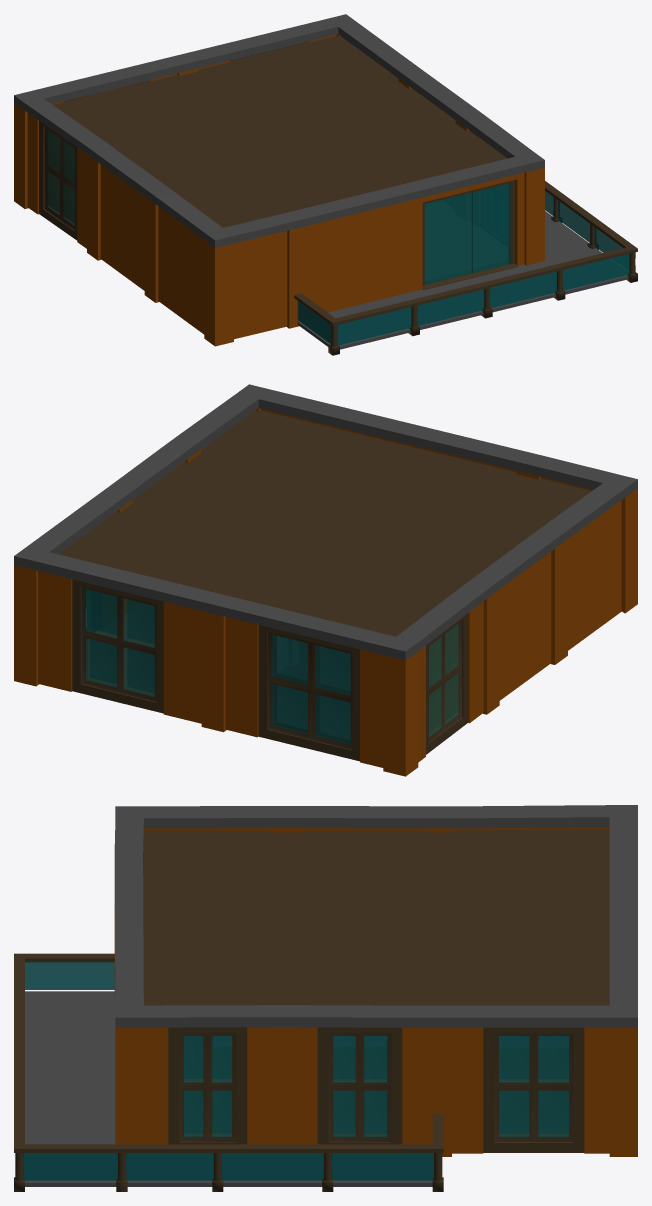
File: crime scene 1 FBX 3.fbx
3 renders of one model, top to bottom at view 1: azimuth 30°, elevation 25°; view 2: azimuth 150°, elevation 25°; view 3: azimuth 270°, elevation 25°, orthographic. The views are drawn at different scales.
Parts seen in each view (by area): view 1: Building, Ceiling, Door; view 2: Building, Ceiling; view 3: Building, Ceiling.
Part boxes in pixels (bbox=[...]): Building: bbox=[14, 14, 637, 355]; Ceiling: bbox=[53, 36, 507, 227]; Door: bbox=[424, 192, 472, 284]; Building: bbox=[14, 384, 637, 776]; Ceiling: bbox=[58, 410, 591, 636]; Building: bbox=[14, 805, 637, 1191]; Ceiling: bbox=[143, 829, 609, 1005].
Size of the model in its own units: 26.56 by 7.09 by 28.33.
